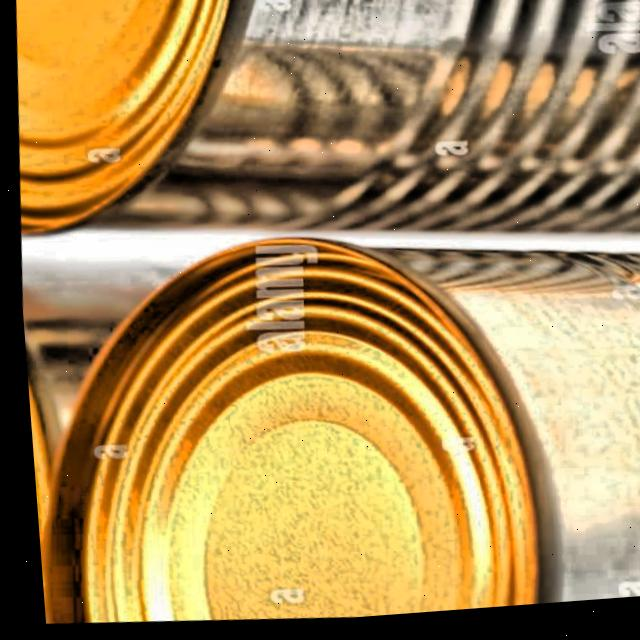metal: (14, 204, 640, 640), (3, 0, 640, 289), (14, 226, 275, 635)
